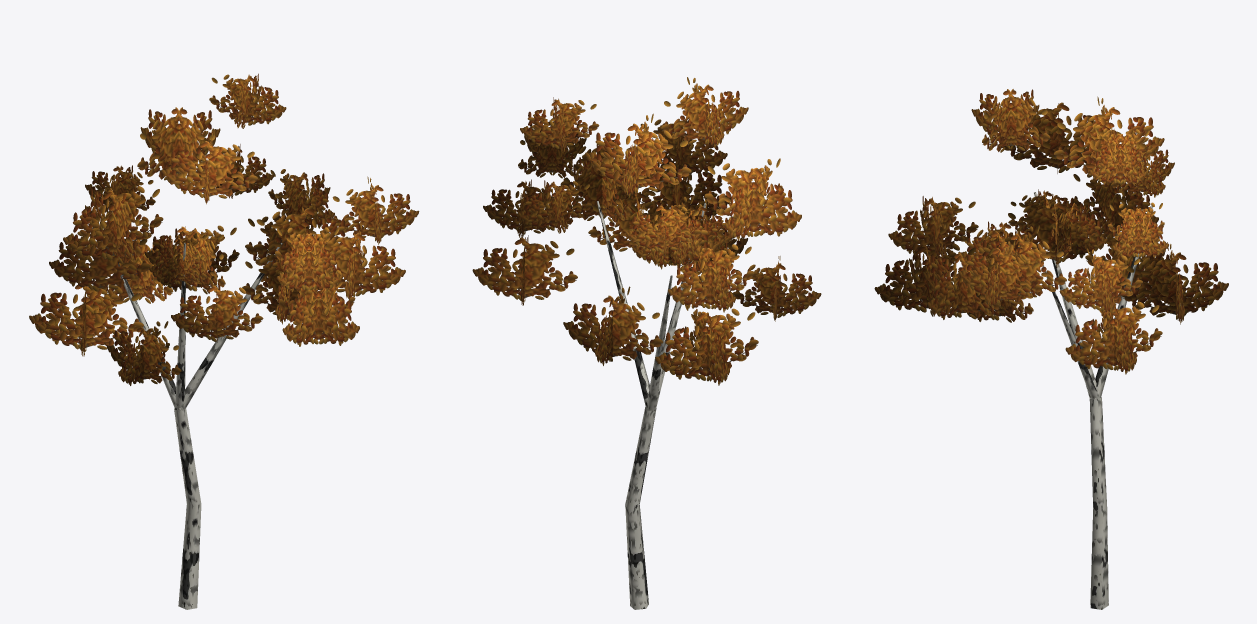
Rendered from birch0_autumn_lod1.fbx.
The picture shows the model from 3 angles, left to right: view 1: azimuth 30°, elevation 25°; view 2: azimuth 150°, elevation 25°; view 3: azimuth 270°, elevation 25°; orthographic projection.
Parts seen in each view (by area): view 1: birch0_autumn_lod1; view 2: birch0_autumn_lod1; view 3: birch0_autumn_lod1.
Part boxes in pixels (left/top/right/bottom): birch0_autumn_lod1: left=29, top=73, right=419, bottom=609; birch0_autumn_lod1: left=472, top=77, right=821, bottom=609; birch0_autumn_lod1: left=874, top=89, right=1228, bottom=609.
Bounding box in the file's own units: 8.66 × 13.37 × 8.35.
2 materials, 2 textured.
